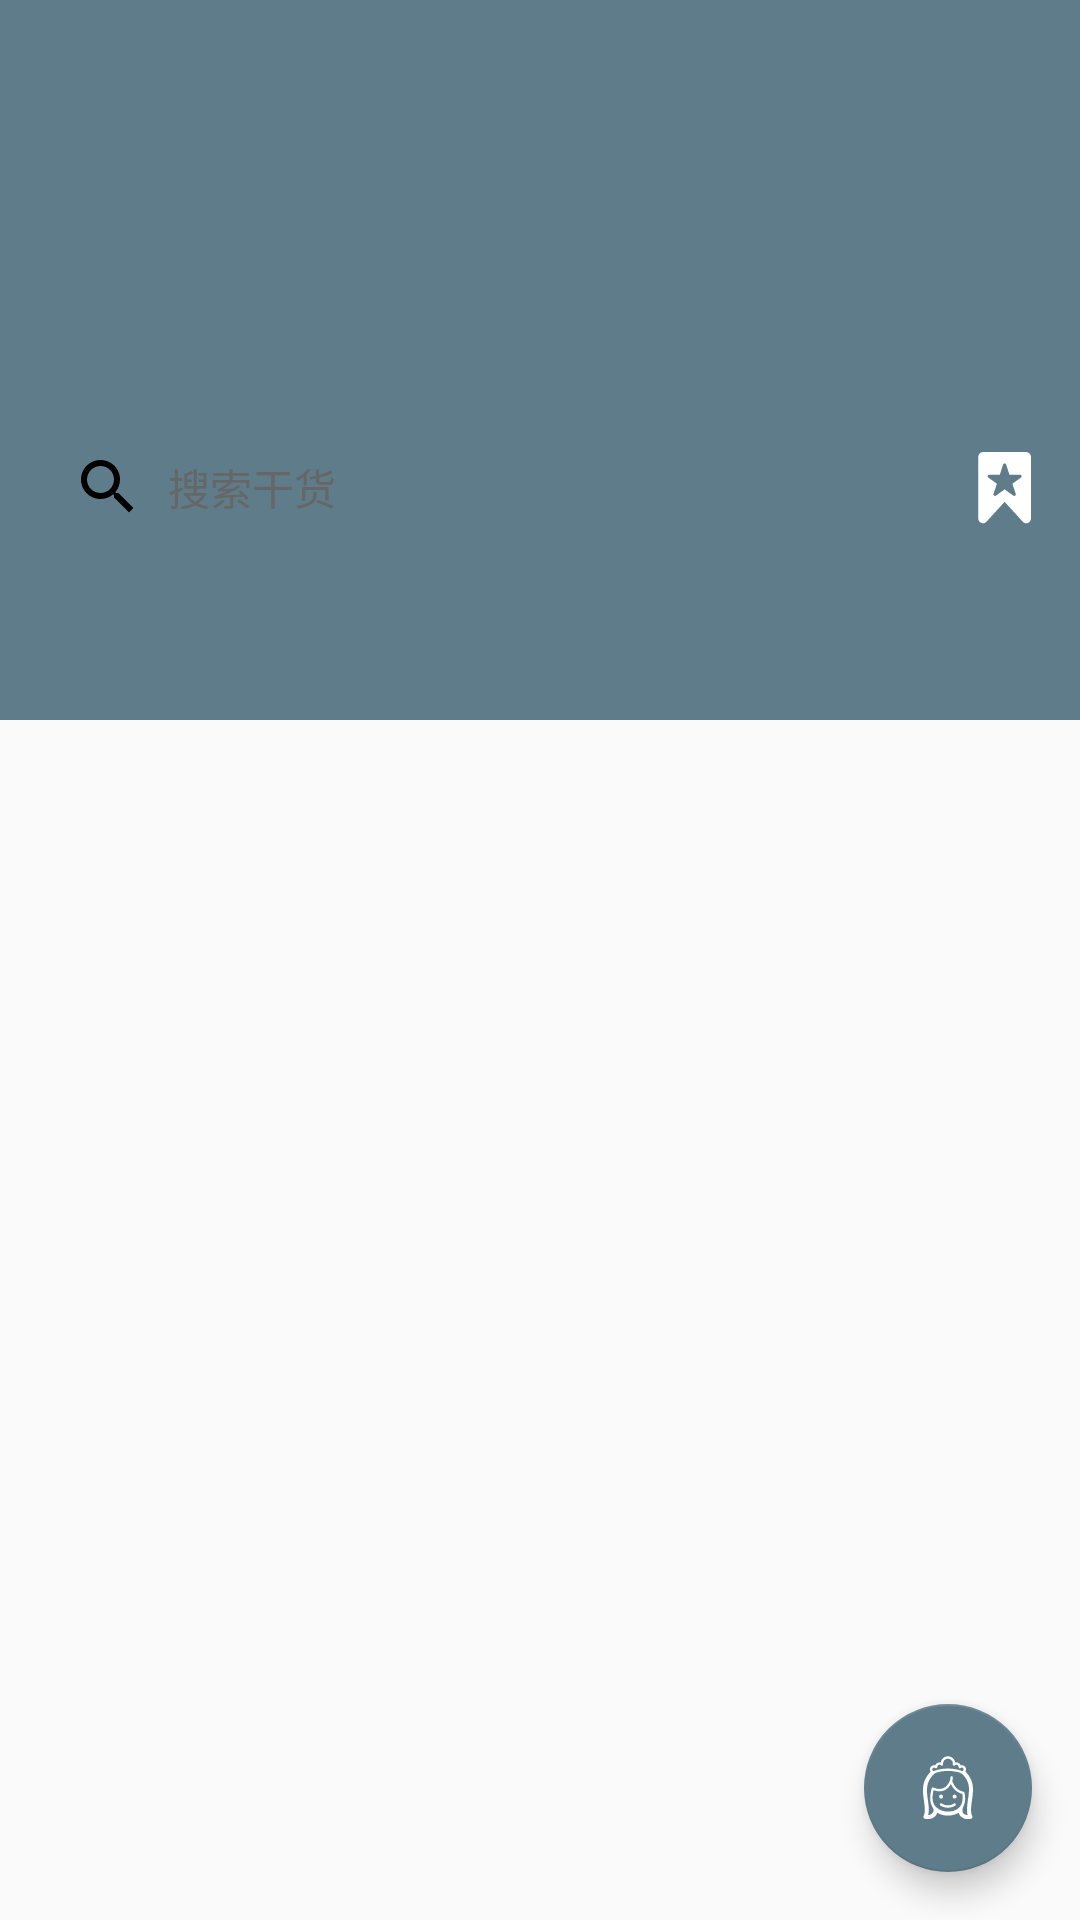

Where to tap for icons on this 1080×1920 app screen, as (x=x, y=y):
beauty: (x=948, y=1788)
collection: (x=1004, y=488)
